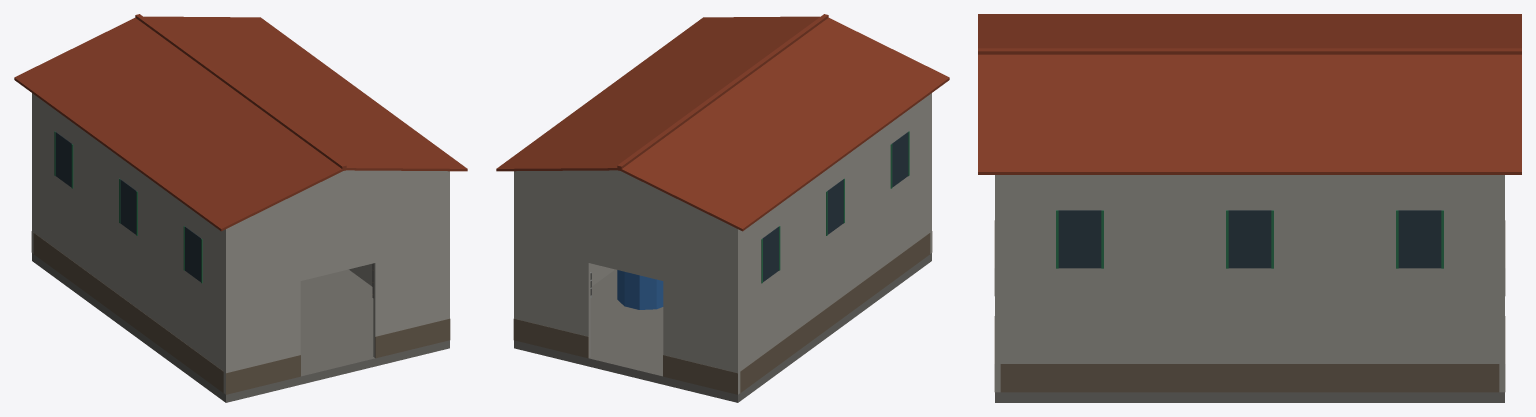
The model's file is casa_forca_a.glb.
3 renders of one model, left to right at view 1: azimuth 30°, elevation 25°; view 2: azimuth 150°, elevation 25°; view 3: azimuth 270°, elevation 25°, orthographic. The views are drawn at different scales.
Visible parts, largest first — view 1: casa_forca_a; view 2: casa_forca_a; view 3: casa_forca_a.
Boxes of the visible parts, x1=… form: casa_forca_a: x1=14, y1=14, x2=467, y2=402; casa_forca_a: x1=496, y1=14, x2=949, y2=402; casa_forca_a: x1=978, y1=14, x2=1521, y2=402.
Bounding box in the file's own units: 13.2 × 10.96 × 19.2.
